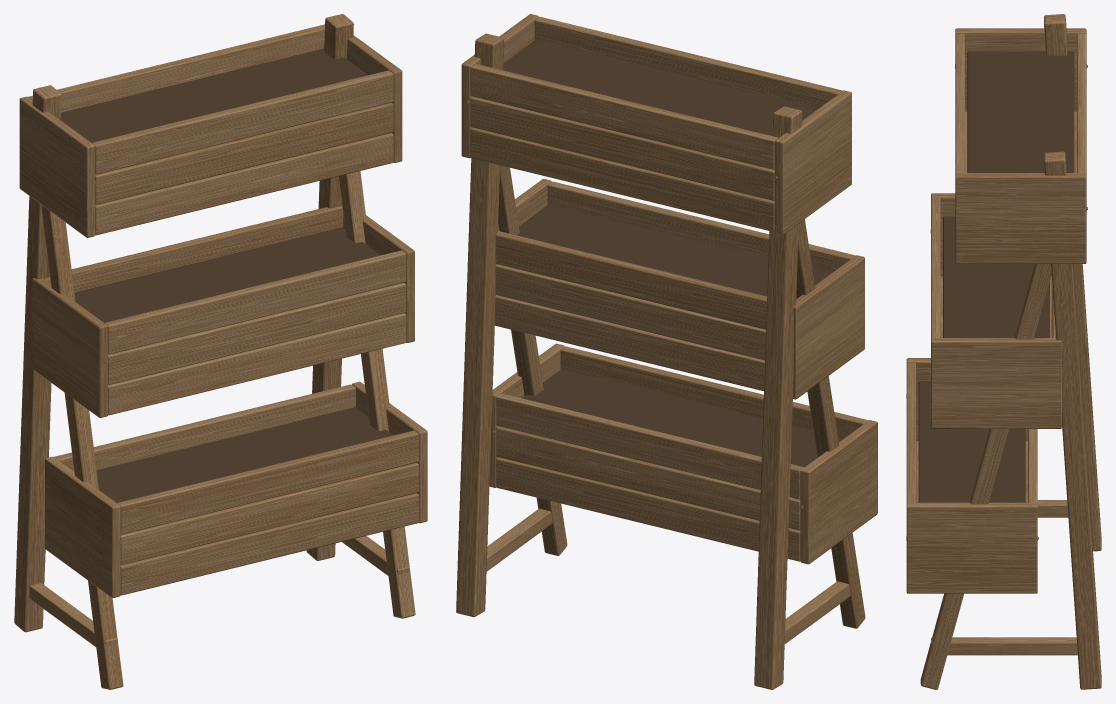
Rendered from outdoor-vertical-planter.glb.
3 views of the same model, side by side, from view 1: azimuth 30°, elevation 25°; view 2: azimuth 150°, elevation 25°; view 3: azimuth 270°, elevation 25° (orthographic). The views are drawn at different scales.
Parts seen in each view (by area): view 1: outdoor-vertical-planter authored assembly; view 2: outdoor-vertical-planter authored assembly; view 3: outdoor-vertical-planter authored assembly.
Boxes of the visible parts, left/top/right/bottom form: outdoor-vertical-planter authored assembly: left=14, top=14, right=427, bottom=689; outdoor-vertical-planter authored assembly: left=456, top=14, right=877, bottom=689; outdoor-vertical-planter authored assembly: left=906, top=14, right=1101, bottom=689.
Bounding box in the file's own units: 0.9 × 1.5 × 0.5.
Materials: 3 (1 with a texture image).
